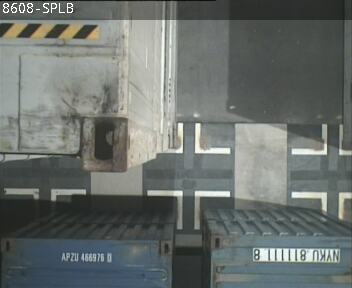groundmarker_1: (147, 186, 231, 232), (6, 186, 81, 217), (159, 121, 231, 153), (292, 191, 352, 222), (292, 124, 352, 155)
